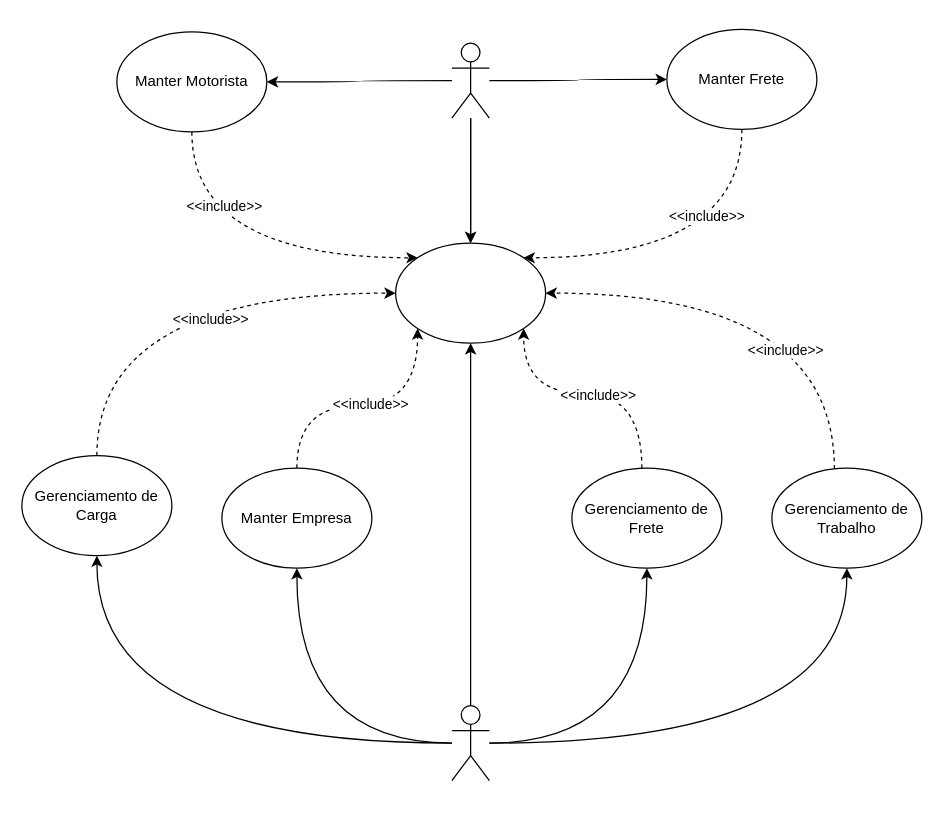
The diagram is 944 pixels wide and 828 high, and some of its shapes have lost their labels. Each missing label, with the centre of its shape:
"Efetuar login" belongs at point 470,292.
"Empresa" belongs at point 470,742.
"Motorista" belongs at point 470,80.
